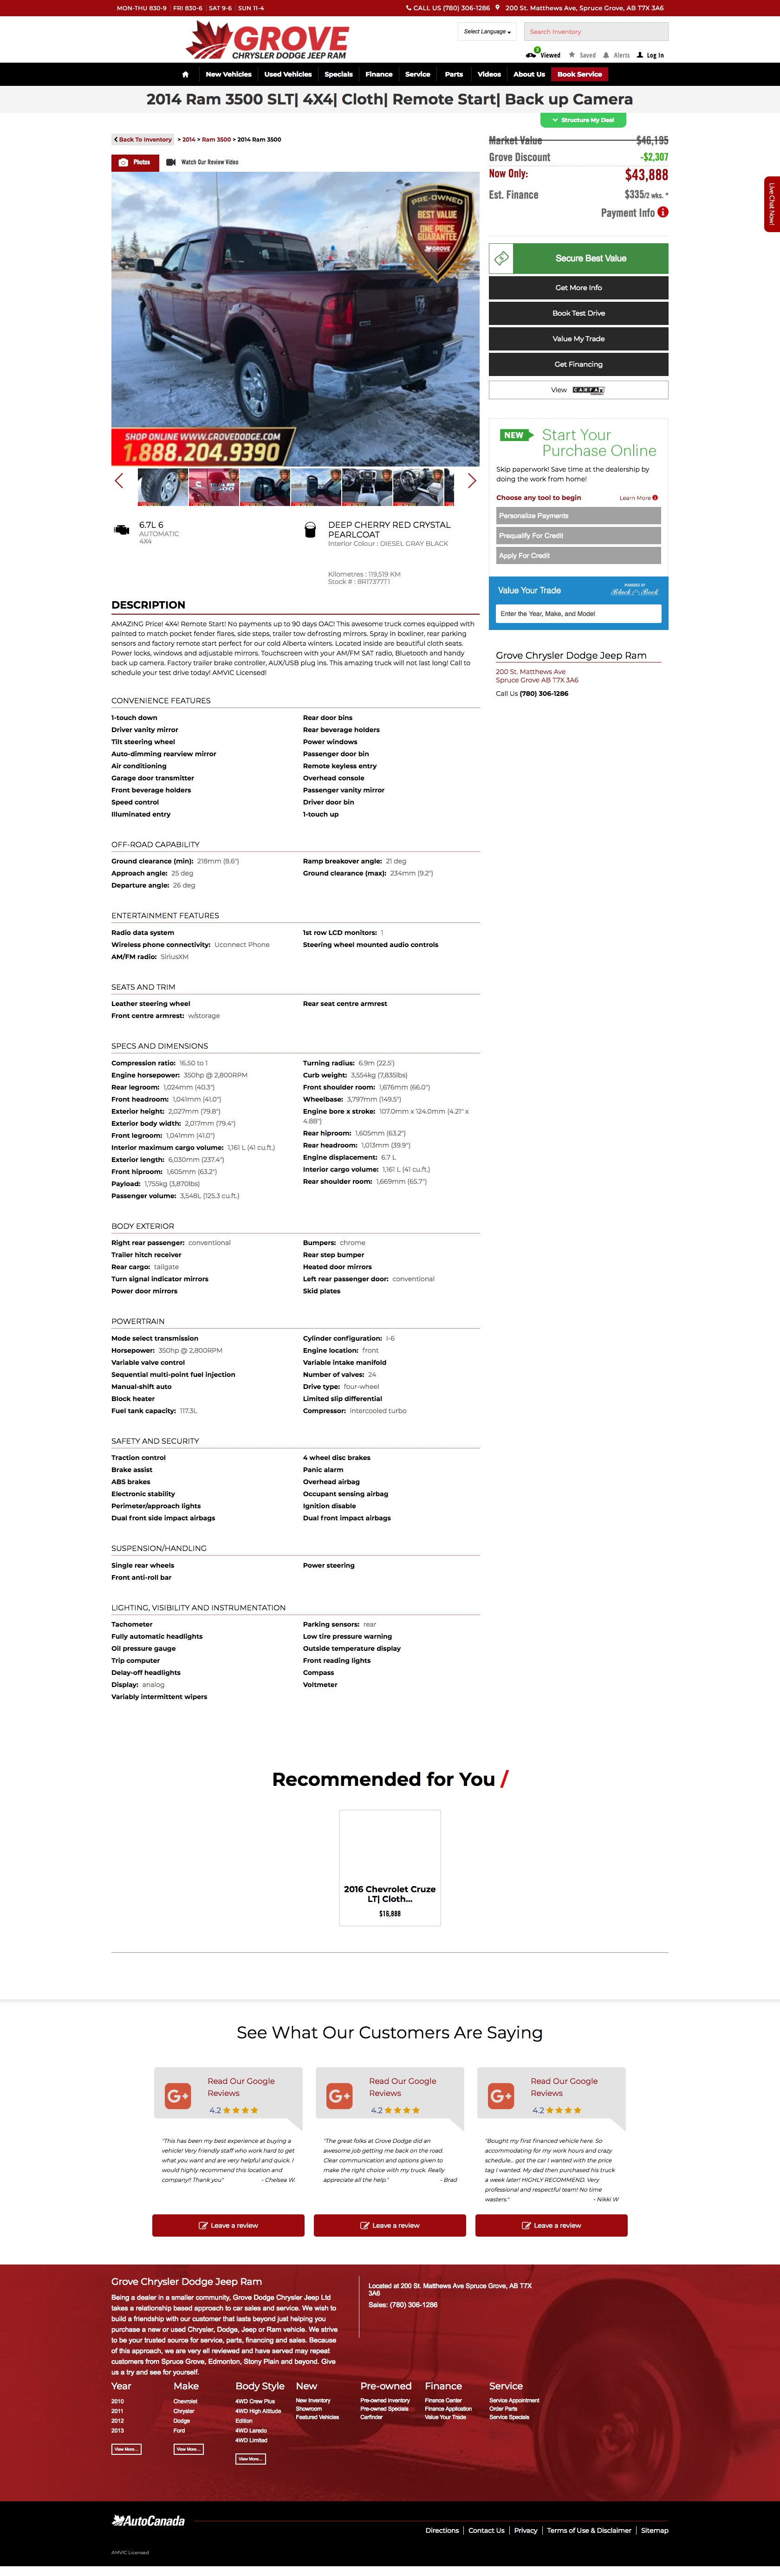car: (468, 473, 476, 490)
